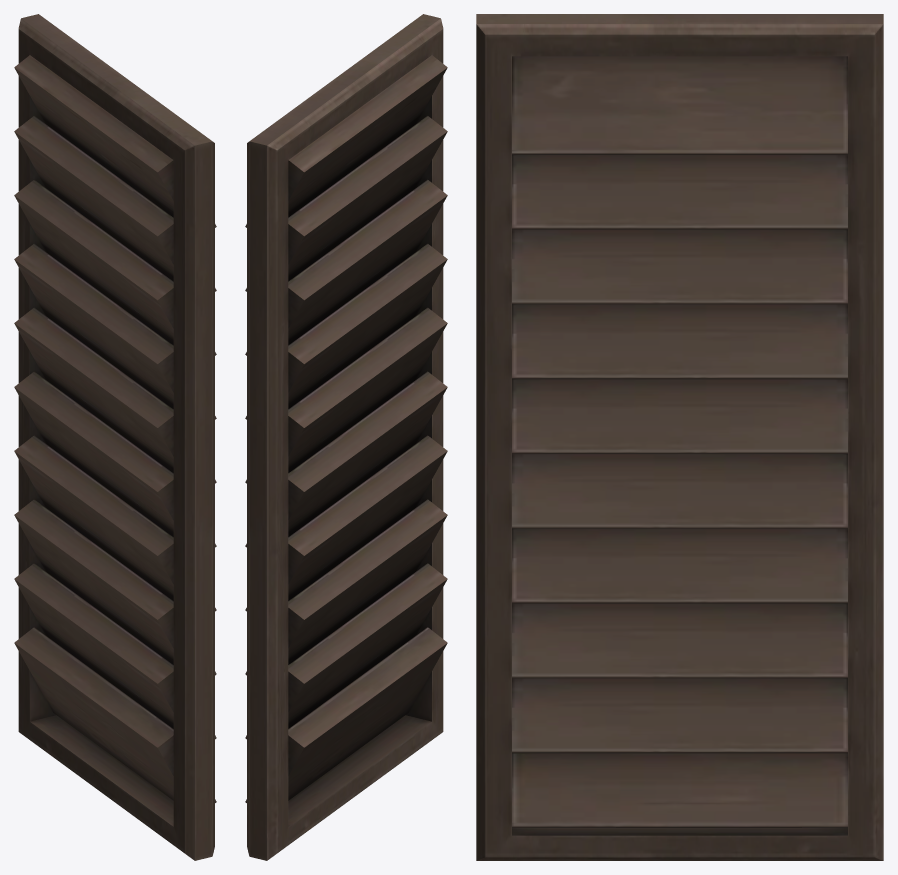
3 renders of one model, left to right at view 1: azimuth 30°, elevation 25°; view 2: azimuth 150°, elevation 25°; view 3: azimuth 270°, elevation 25°, orthographic. The views are drawn at different scales.
Visible parts, largest first — view 1: body0_model0_lod0_mesh0; view 2: body0_model0_lod0_mesh0; view 3: body0_model0_lod0_mesh0.
Part boxes in pixels (box(x1,y1,x2,y2)): body0_model0_lod0_mesh0: box(14, 14, 216, 860); body0_model0_lod0_mesh0: box(245, 14, 447, 860); body0_model0_lod0_mesh0: box(476, 14, 883, 860).
Size of the model in its own units: 5.89 by 68.07 by 30.01.
Materials: 1 (1 with a texture image).
